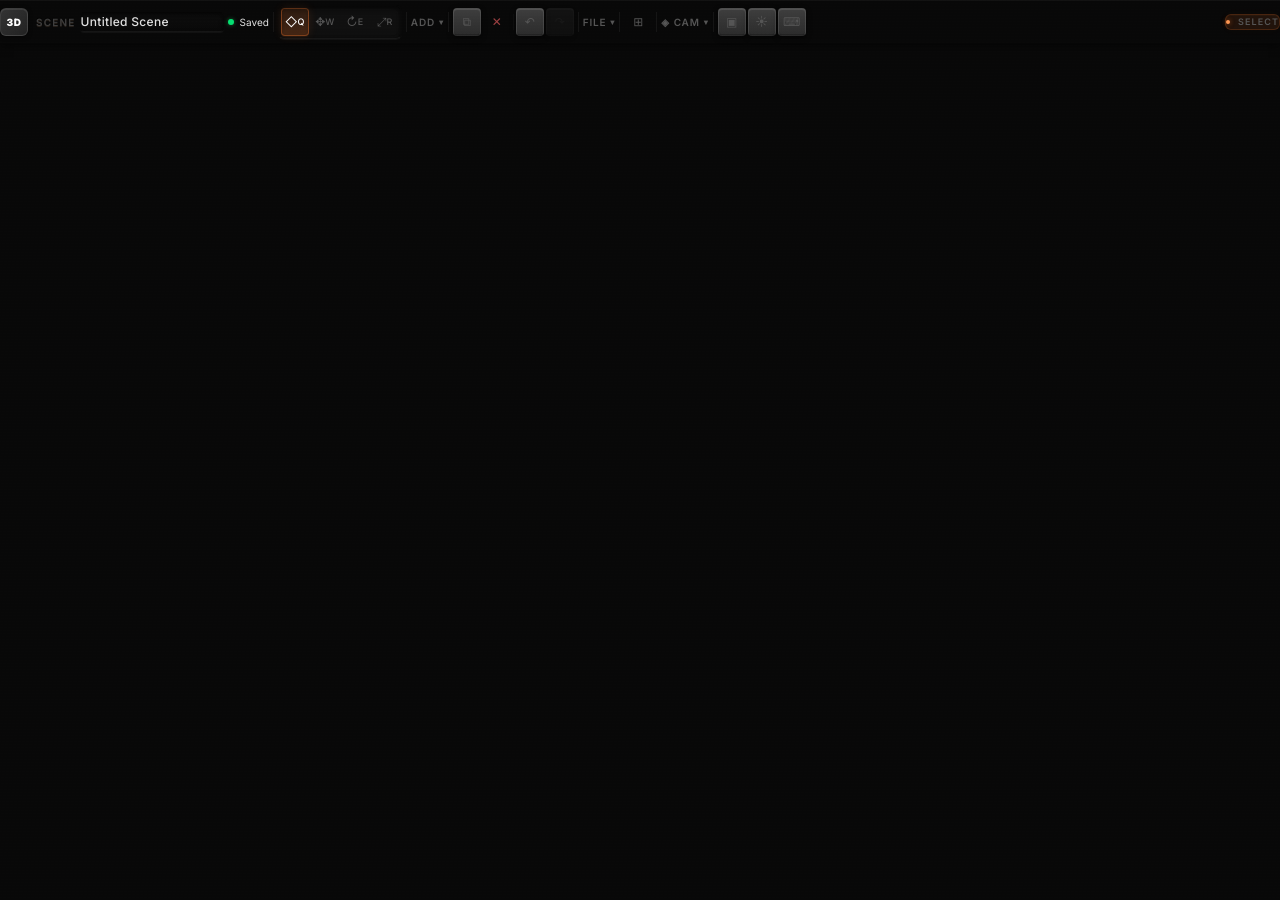
Test: Toolbar › Reset confirmation dialog › clicking "Clear All" clears the scene and closes the dialog
This screenshot has width=1280, height=900.
Click the button with aria-label "File operations".
click(599, 22)  # box [583,8,615,36]
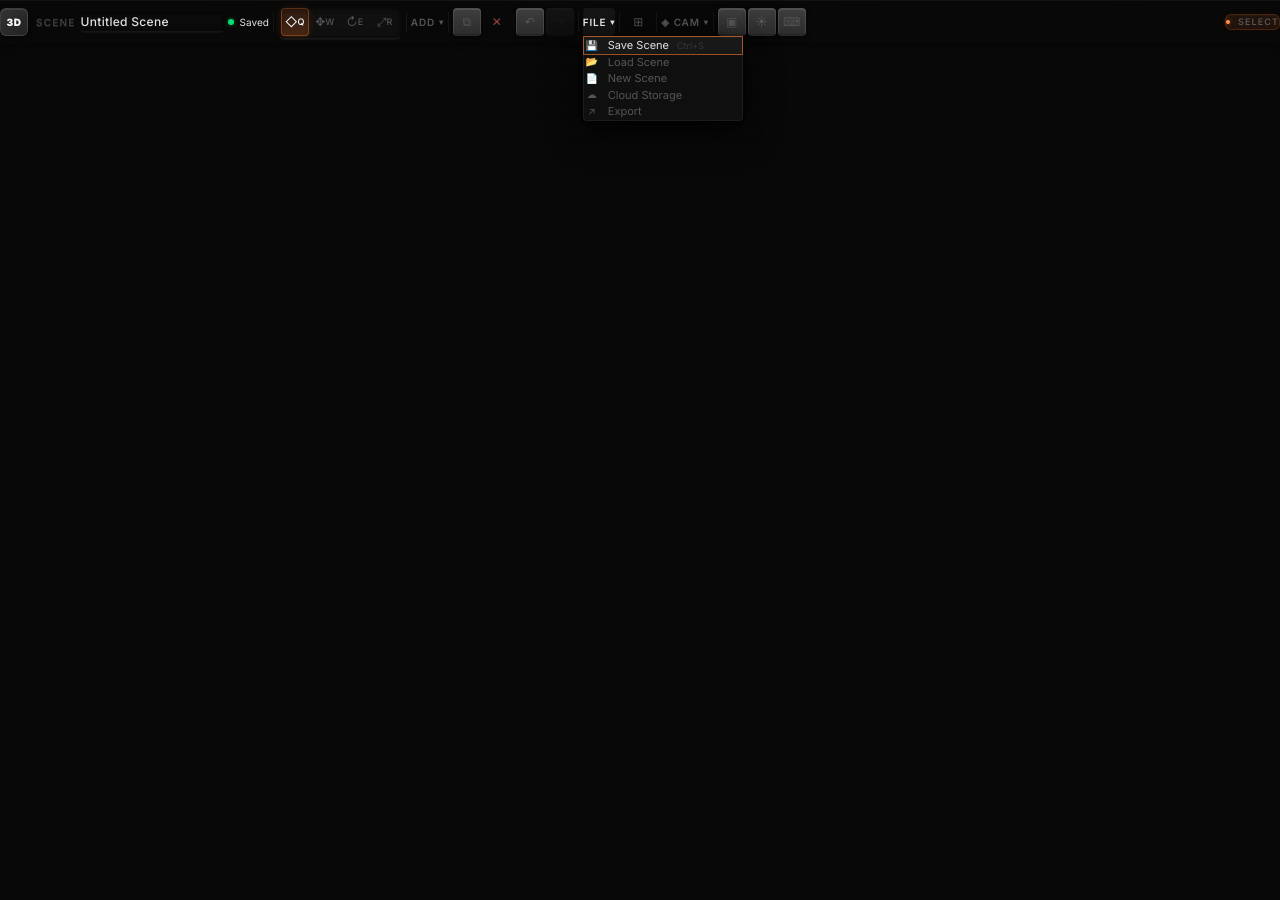
Click the menu item "📄 New Scene".
click(663, 78)  # box [584,70,742,86]
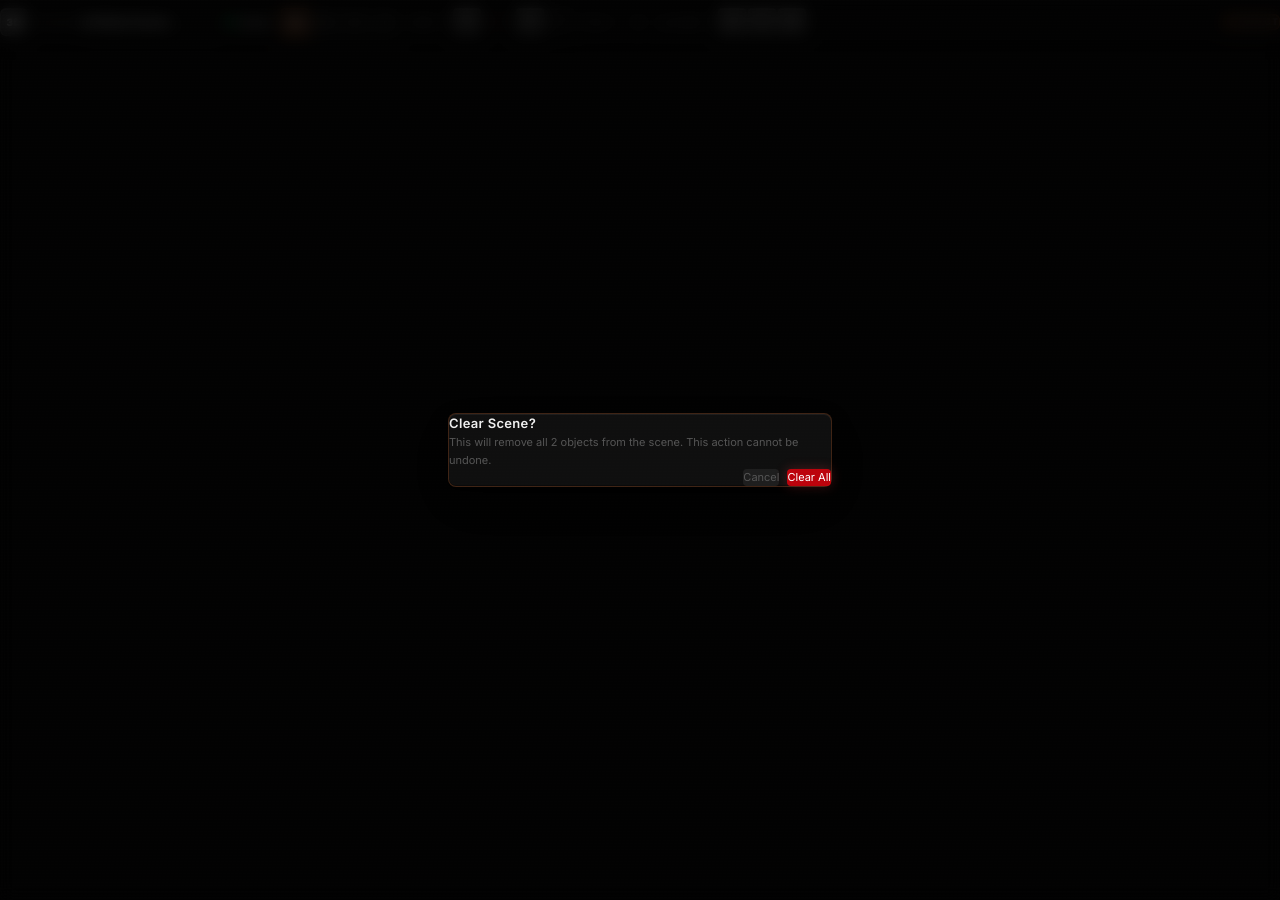
Expected: the heading "Clear Scene?" is shown, [449,415,536,431]
Click the button "Clear All".
click(809, 478)  # box [787,469,831,486]
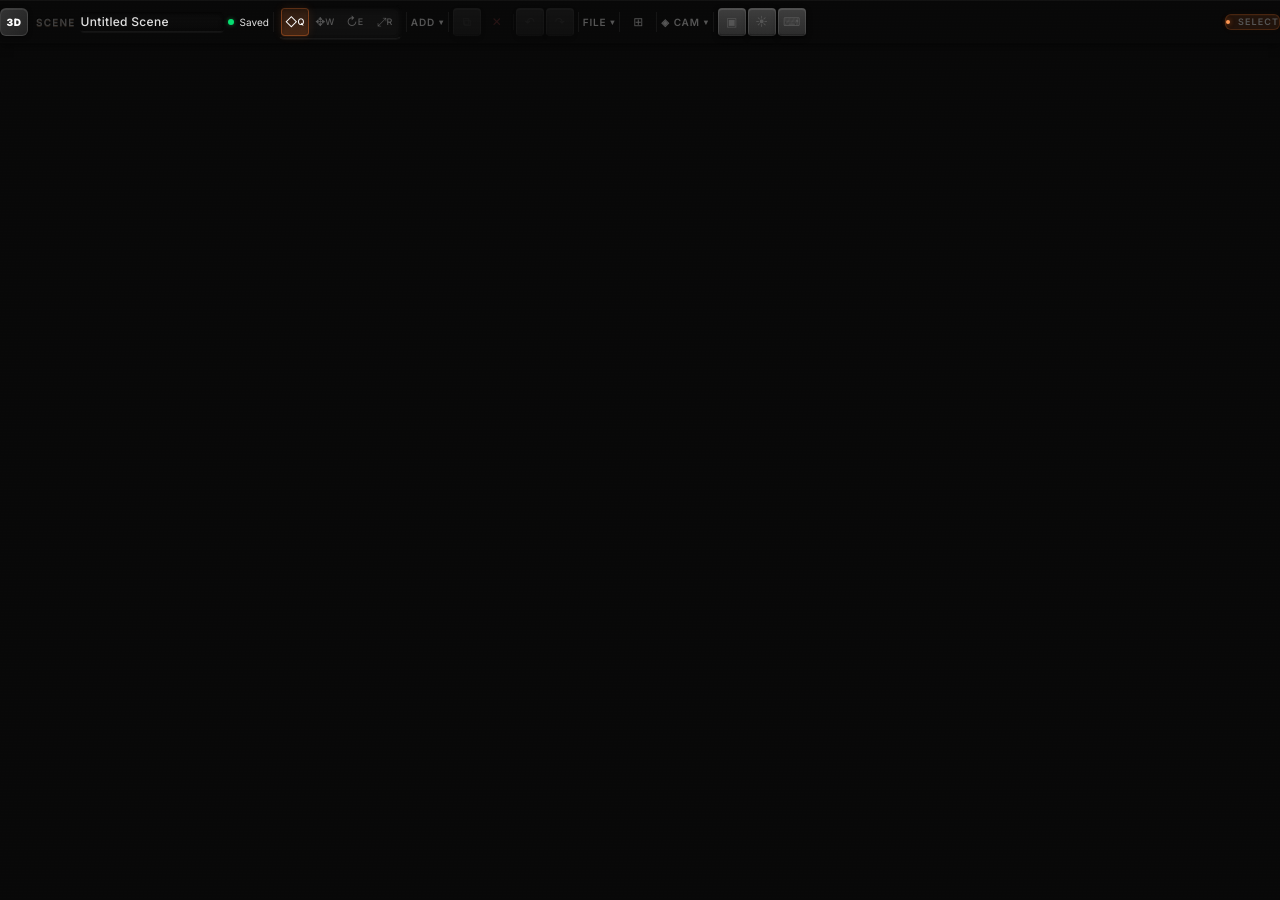
Expected: the heading "Clear Scene?" is gone
